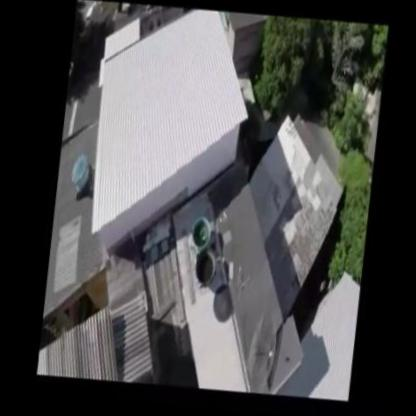agua: (188, 247, 218, 294), (188, 219, 216, 254)
